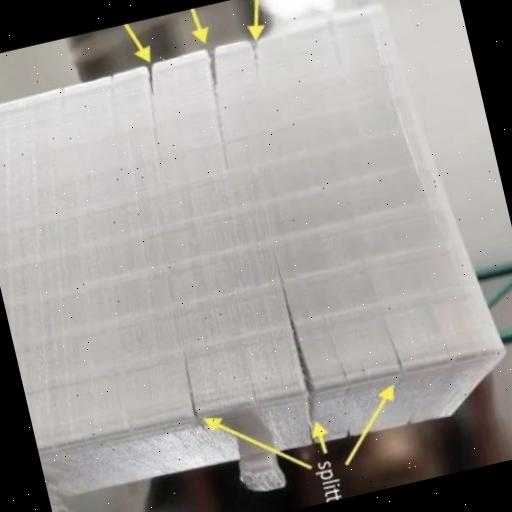cracks: (264, 253, 324, 424), (186, 44, 242, 176), (125, 63, 180, 183), (172, 346, 210, 430), (240, 33, 270, 85), (386, 334, 406, 371)
